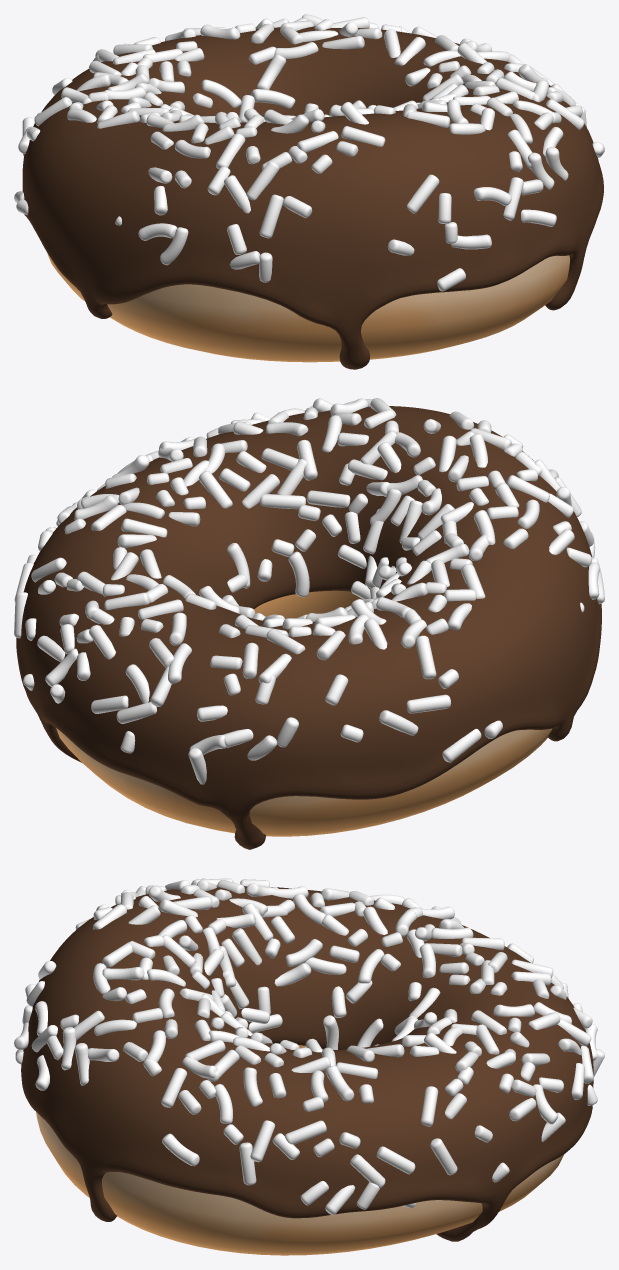
The model's file is donut.glb.
The picture shows the model from 3 angles, top to bottom: view 1: azimuth 30°, elevation 25°; view 2: azimuth 150°, elevation 25°; view 3: azimuth 270°, elevation 25°; orthographic projection. The views are drawn at different scales.
Visible parts, largest first — view 1: icing.006, donut.007; view 2: icing.006, donut.007; view 3: icing.006, donut.007.
Boxes of the visible parts, bbox=[...] form: icing.006: bbox=[14, 14, 604, 369]; donut.007: bbox=[47, 252, 569, 362]; icing.006: bbox=[14, 398, 604, 849]; donut.007: bbox=[56, 590, 552, 836]; icing.006: bbox=[14, 878, 604, 1241]; donut.007: bbox=[36, 1045, 563, 1255].
Size of the model in its own units: 0.1278 by 0.0646 by 0.1337.
Materials: 3 (1 with a texture image).
